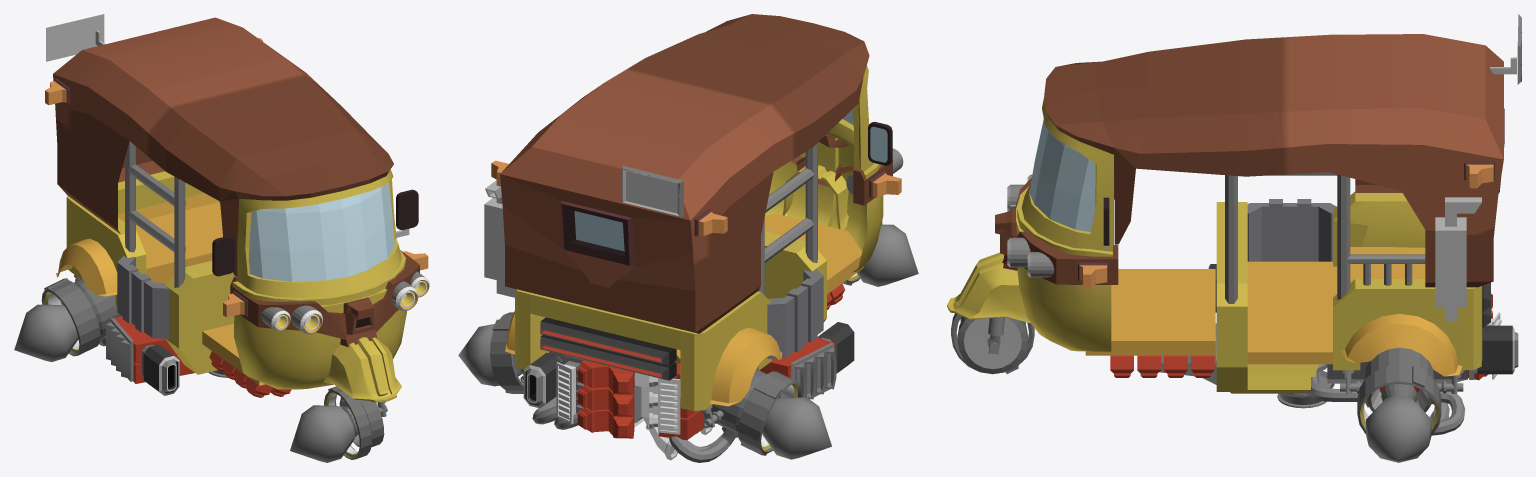
Rendered from 3wheel_strat_ANI.fbx.
The picture shows the model from 3 angles, left to right: view 1: azimuth 30°, elevation 25°; view 2: azimuth 150°, elevation 25°; view 3: azimuth 270°, elevation 25°; orthographic projection. The views are drawn at different scales.
Parts seen in each view (by area): view 1: curve2, pCylinder5, pCylinder4; view 2: curve2, pCylinder4, pCylinder5, pCylinder3; view 3: curve2, pCylinder3.
Part boxes in pixels (x1,y1,x2,y2): curve2: (41, 14, 429, 459); pCylinder5: (290, 405, 355, 462); pCylinder4: (14, 304, 78, 361); curve2: (484, 14, 903, 462); pCylinder4: (762, 397, 831, 459); pCylinder5: (857, 224, 918, 286); pCylinder3: (458, 324, 522, 386); curve2: (947, 14, 1521, 435); pCylinder3: (1366, 395, 1431, 462).
Size of the model in its own units: 9.22 by 7.53 by 11.64.
